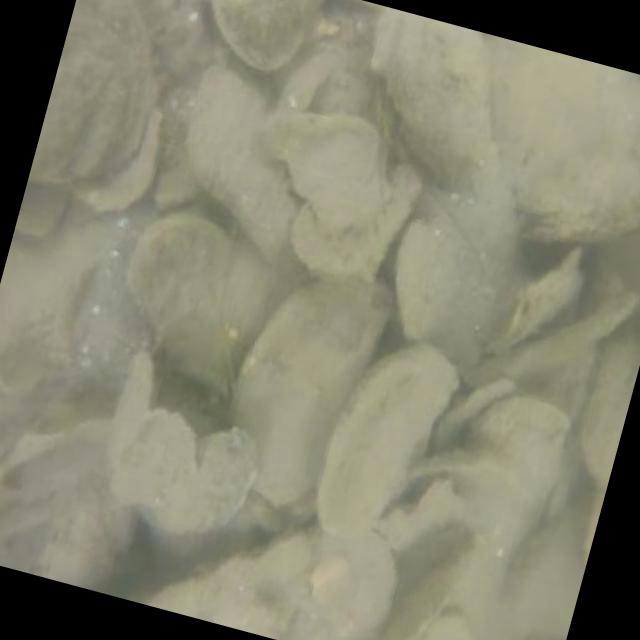Oyster-Closed: (231, 280, 390, 515), (120, 206, 278, 408), (260, 104, 426, 289), (314, 340, 462, 544), (394, 184, 526, 391), (457, 395, 570, 633), (179, 62, 300, 266), (28, 0, 155, 186), (368, 7, 488, 167), (144, 531, 310, 637), (147, 424, 257, 535), (571, 317, 639, 493), (381, 544, 475, 639), (206, 0, 319, 77)
